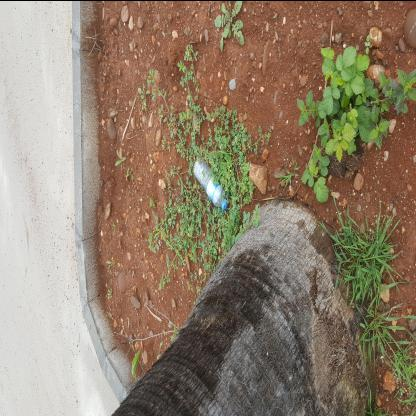plastik: (156, 188, 209, 223)
